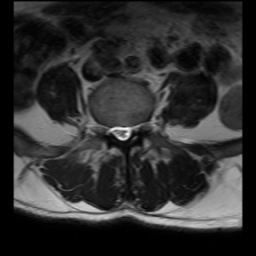CCS_stenosis: (120, 117, 126, 147)
LFS_normal: (133, 117, 142, 139)
LLS_normal: (126, 118, 133, 142)
RFS_normal: (103, 117, 112, 142)
RLS_normal: (112, 118, 120, 144)
